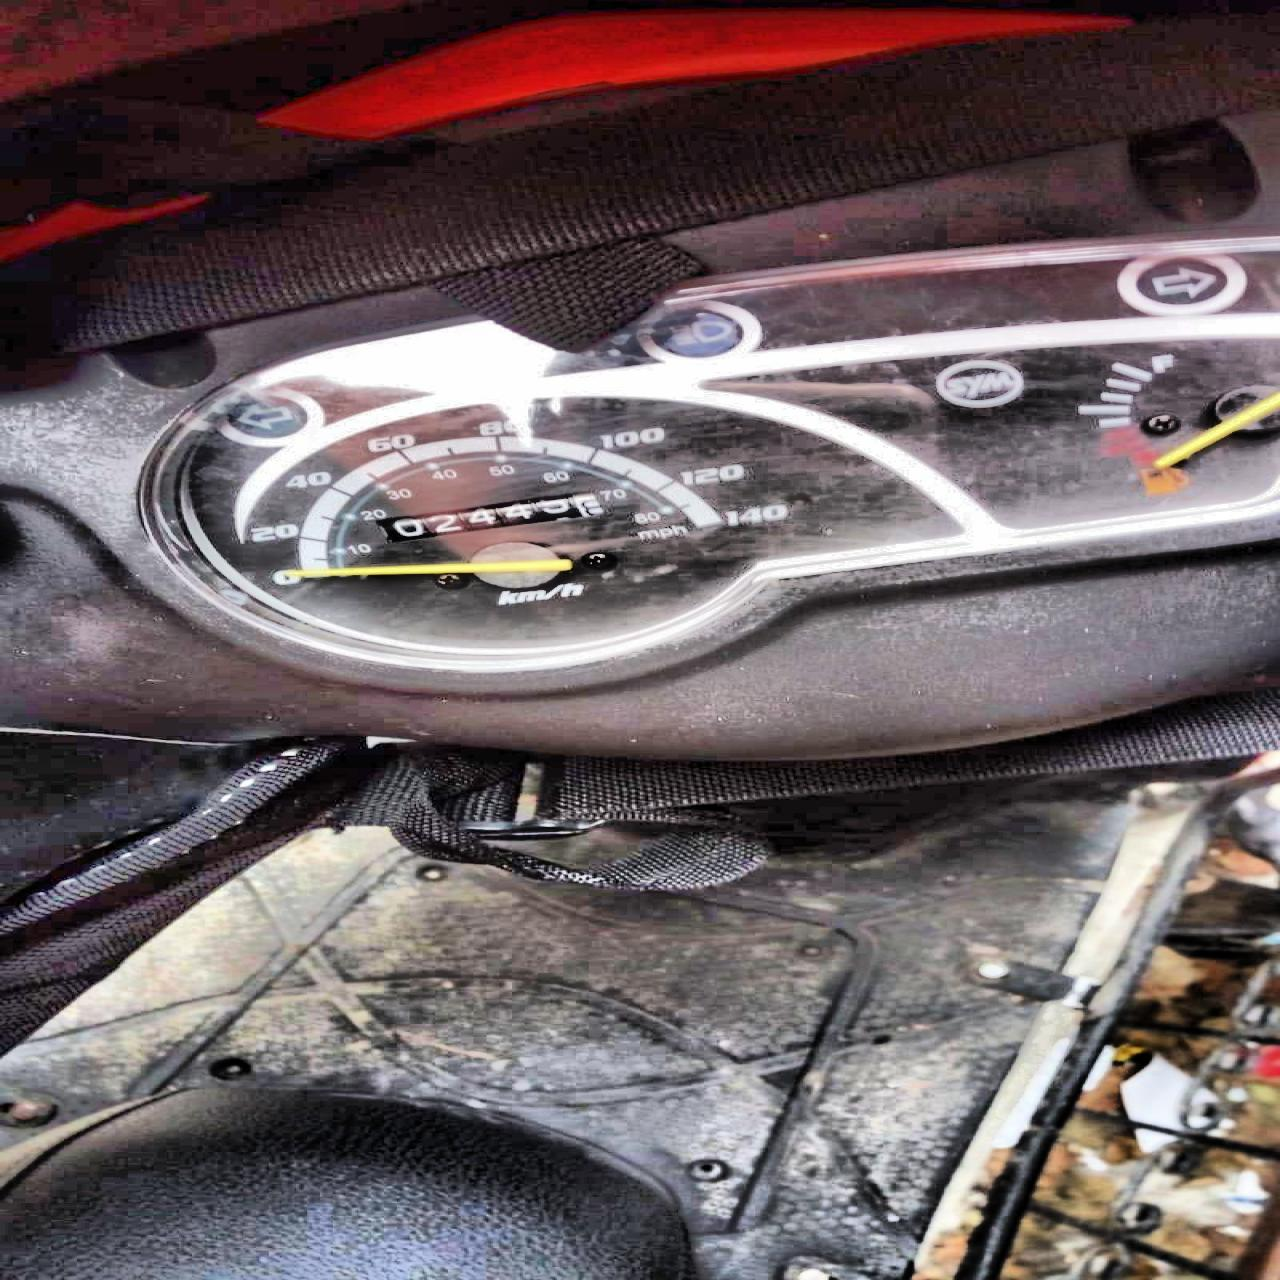0: (392, 517, 422, 536), (372, 508, 386, 518), (396, 488, 409, 497)
2: (425, 513, 461, 532)
3: (384, 490, 397, 499)
4: (503, 499, 530, 518), (468, 506, 495, 524)
5: (538, 493, 568, 512)
8: (579, 498, 602, 516)
odometer: (373, 492, 604, 543)
